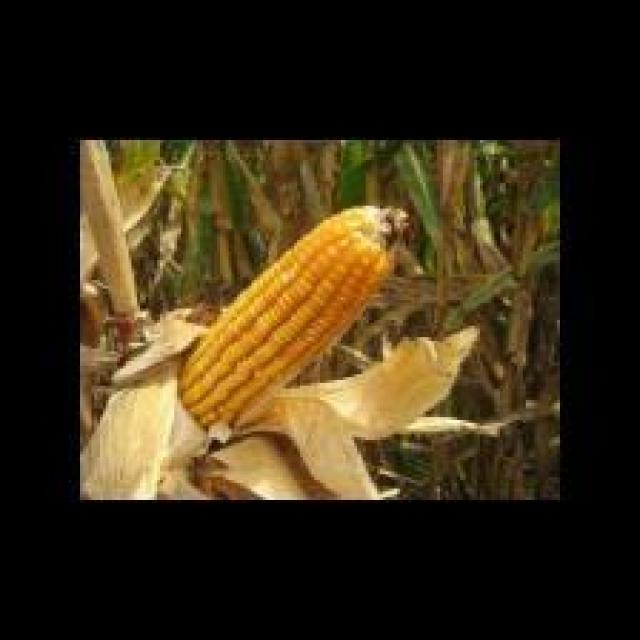corn: (177, 209, 406, 494)
